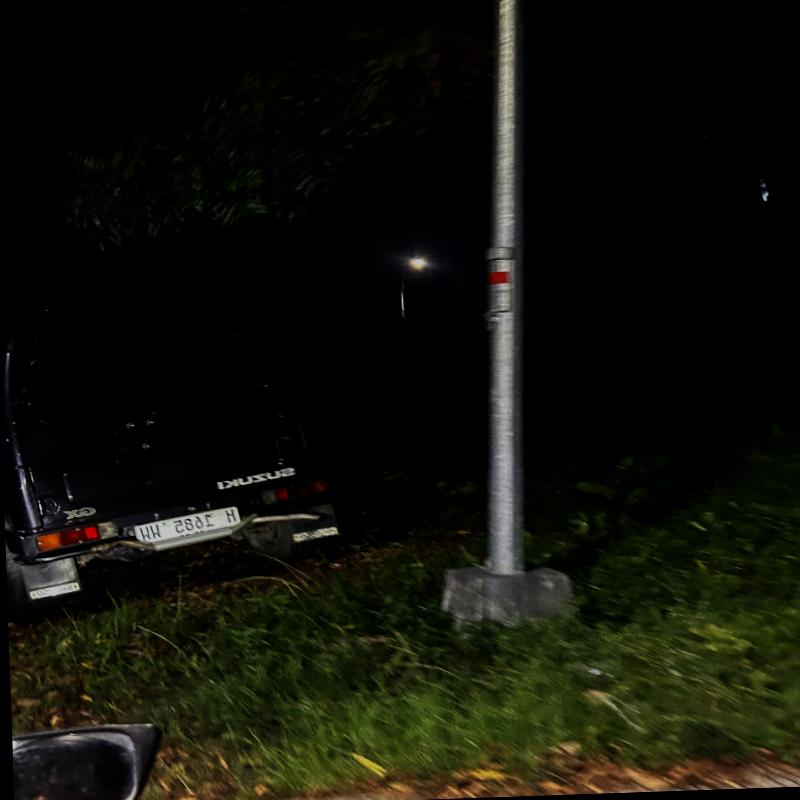license plate on a car: (134, 502, 239, 548)
